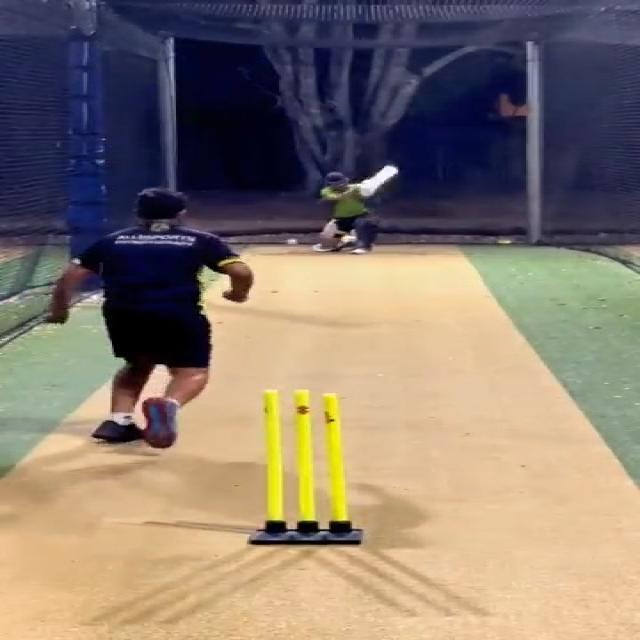ball: (286, 238, 298, 246)
stump: (243, 389, 364, 546)
